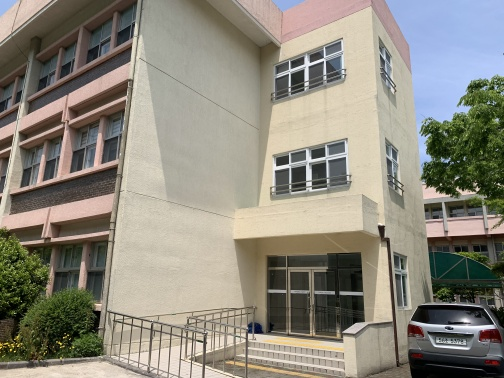College Of Education: (1, 17, 395, 369)
